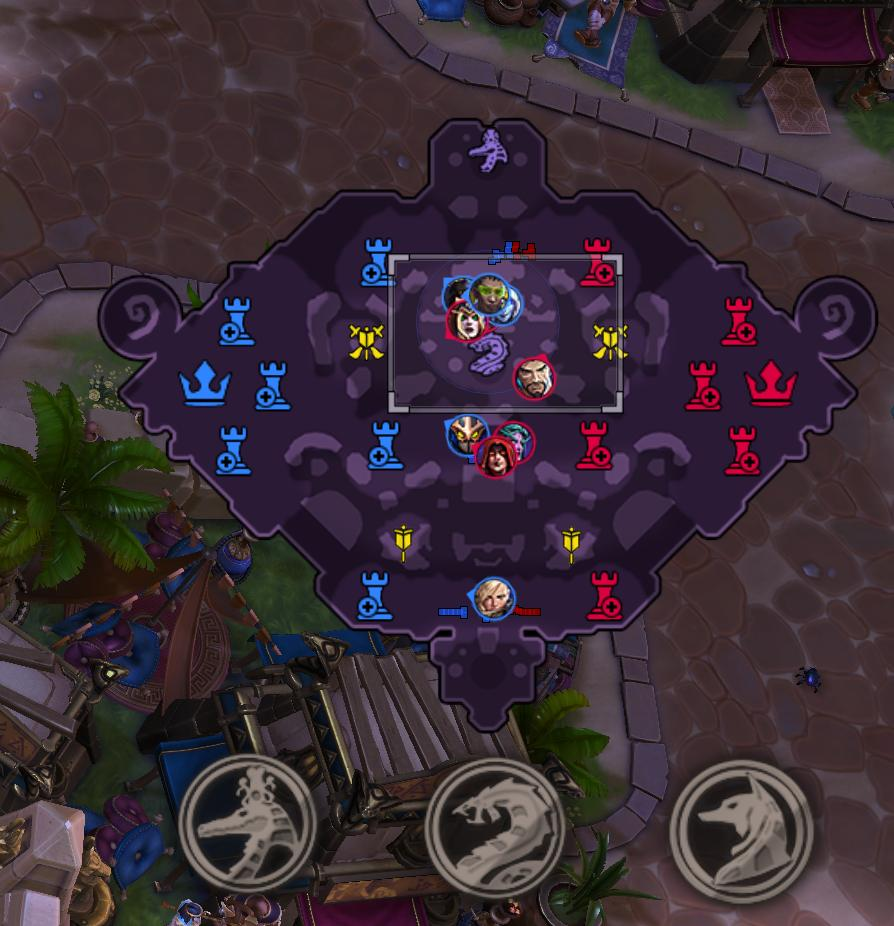blue nexus: (177, 358, 232, 406)
blue player: (468, 576, 515, 622), (444, 413, 488, 459), (468, 273, 510, 319)
blue tower: (365, 418, 405, 470), (253, 359, 292, 412), (213, 425, 253, 475), (217, 295, 256, 346), (360, 235, 397, 288)
red nexus: (743, 358, 798, 407)
red player: (513, 355, 554, 401), (476, 437, 516, 479), (495, 421, 532, 465), (448, 300, 485, 343)
red tower: (574, 419, 613, 471), (683, 359, 721, 412), (586, 568, 623, 622), (720, 295, 757, 347), (579, 235, 616, 287), (723, 425, 760, 476)
